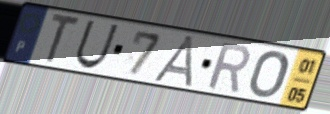7: (128, 29, 164, 76)
A: (149, 34, 196, 90)
O: (247, 49, 291, 99)
R: (205, 41, 252, 96)
T: (44, 12, 83, 66)
U: (73, 18, 122, 70)
